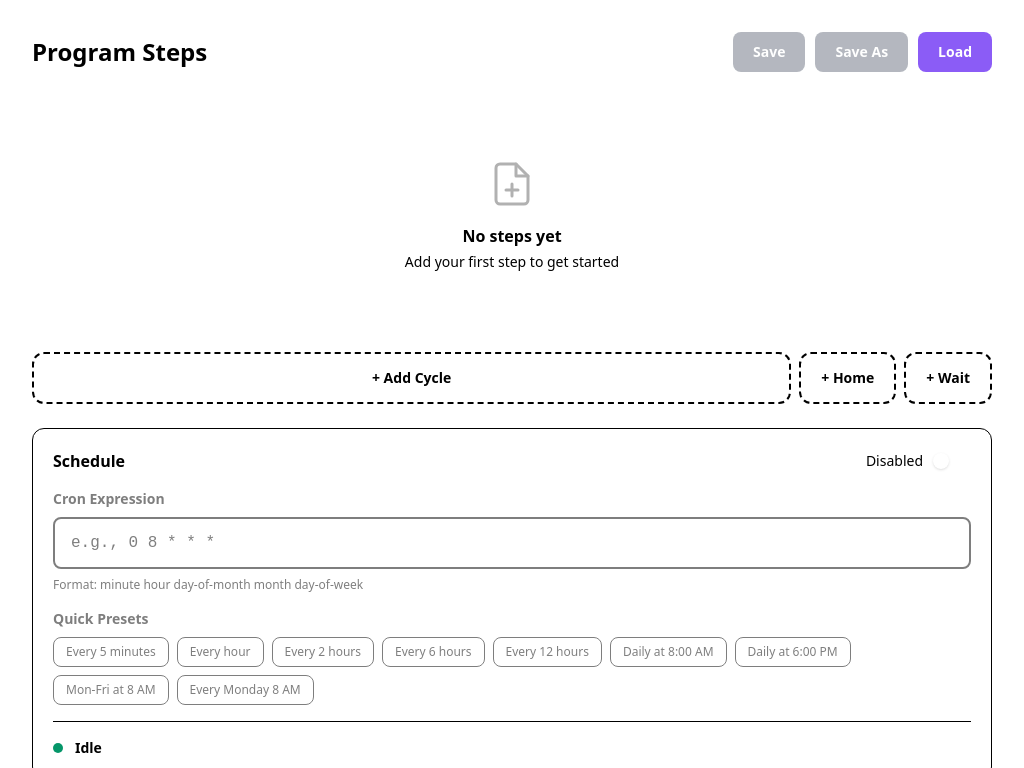
Test: StepWizard › opens wizard when clicking "+ Add Cycle"
Click the button "+ Add Cycle".
click(412, 378)  # box [32, 352, 791, 404]
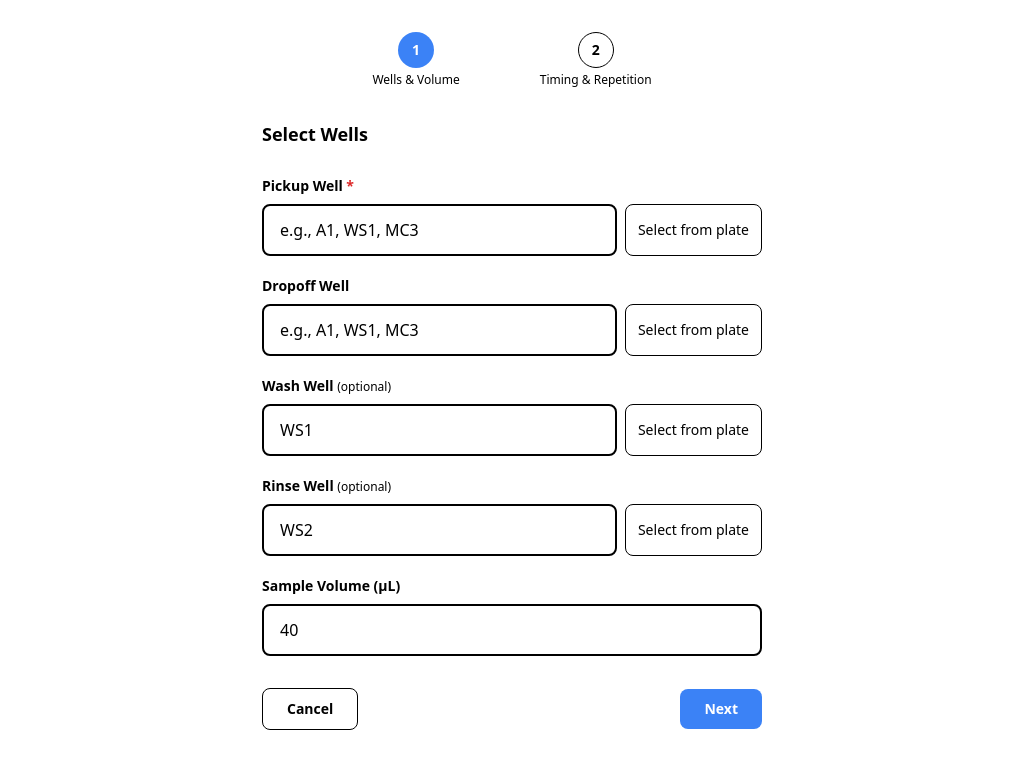
Check: the heading "Select Wells" is shown, box [262, 122, 368, 146]
Check: the text "Wells & Volume" is shown, box [372, 72, 460, 88]
